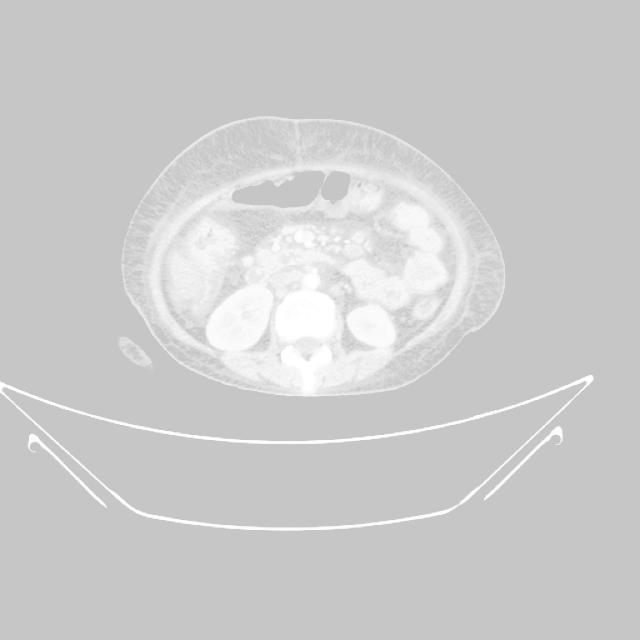NORMAL: (96, 105, 536, 409)
